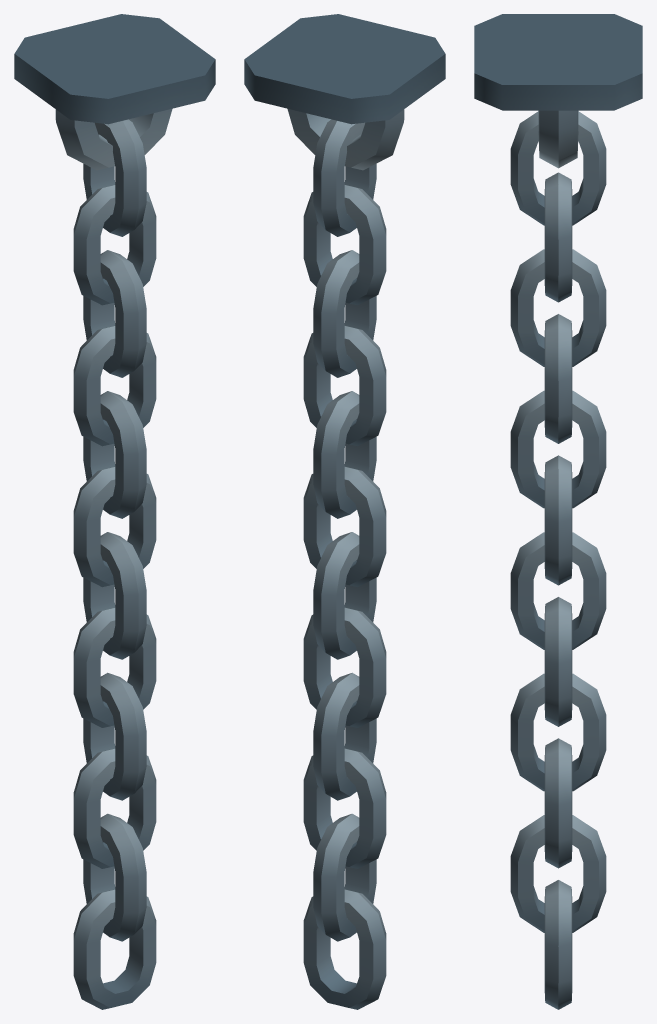
The model's file is chain_hanging_A.glb.
3 renders of one model, left to right at view 1: azimuth 30°, elevation 25°; view 2: azimuth 150°, elevation 25°; view 3: azimuth 270°, elevation 25°, orthographic.
Parts seen in each view (by area): view 1: chain, chain_hanging_A; view 2: chain, chain_hanging_A; view 3: chain, chain_hanging_A.
Part boxes in pixels (x1=…): chain: x1=73, y1=119, x2=156, y2=1009; chain_hanging_A: x1=14, y1=14, x2=215, y2=170; chain: x1=303, y1=119, x2=386, y2=1009; chain_hanging_A: x1=244, y1=14, x2=445, y2=170; chain: x1=510, y1=111, x2=606, y2=1009; chain_hanging_A: x1=474, y1=14, x2=642, y2=168.
Bounding box in the file's own units: 0.3 × 1.88 × 0.3.
Materials: 1 (1 with a texture image).
